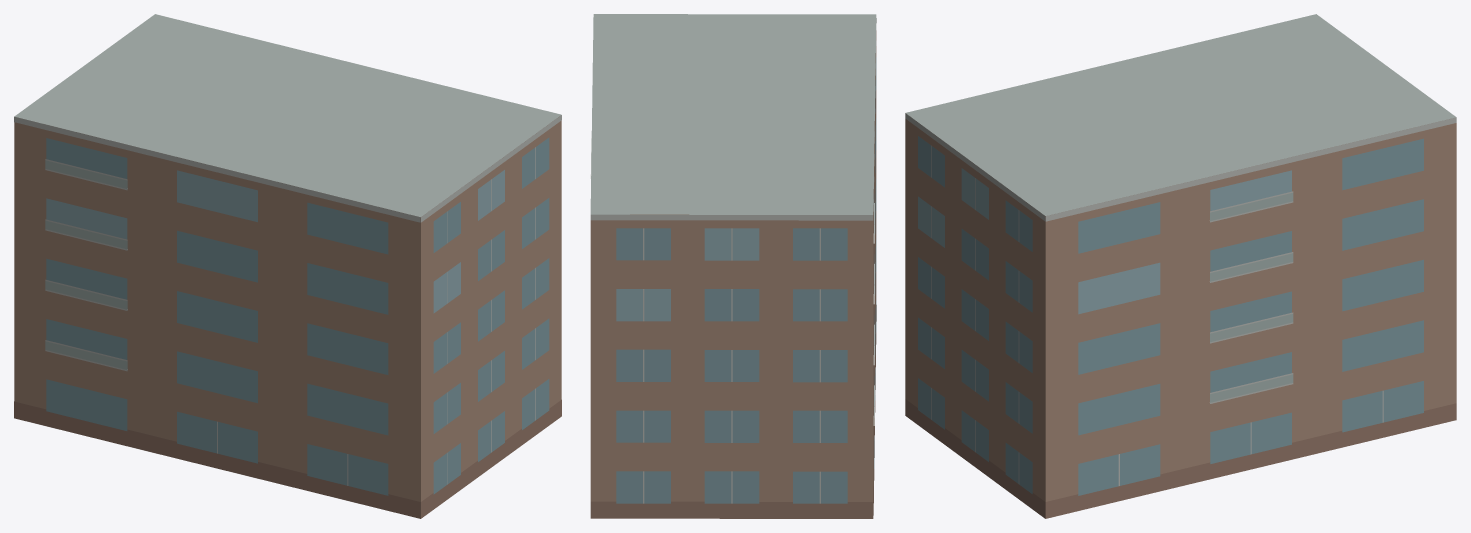
File: survey-upis-32716745.glb
3 views of the same model, side by side, from view 1: azimuth 30°, elevation 25°; view 2: azimuth 150°, elevation 25°; view 3: azimuth 270°, elevation 25° (orthographic).
Visible parts, largest first — view 1: survey-upis-32716745.tmp; view 2: survey-upis-32716745.tmp; view 3: survey-upis-32716745.tmp.
Boxes of the visible parts, x1,y1,x2,y2 form: survey-upis-32716745.tmp: (14,14,561,518); survey-upis-32716745.tmp: (590,14,876,518); survey-upis-32716745.tmp: (905,14,1456,518).
Size of the model in its own units: 19.06 by 13.3 by 21.96.
